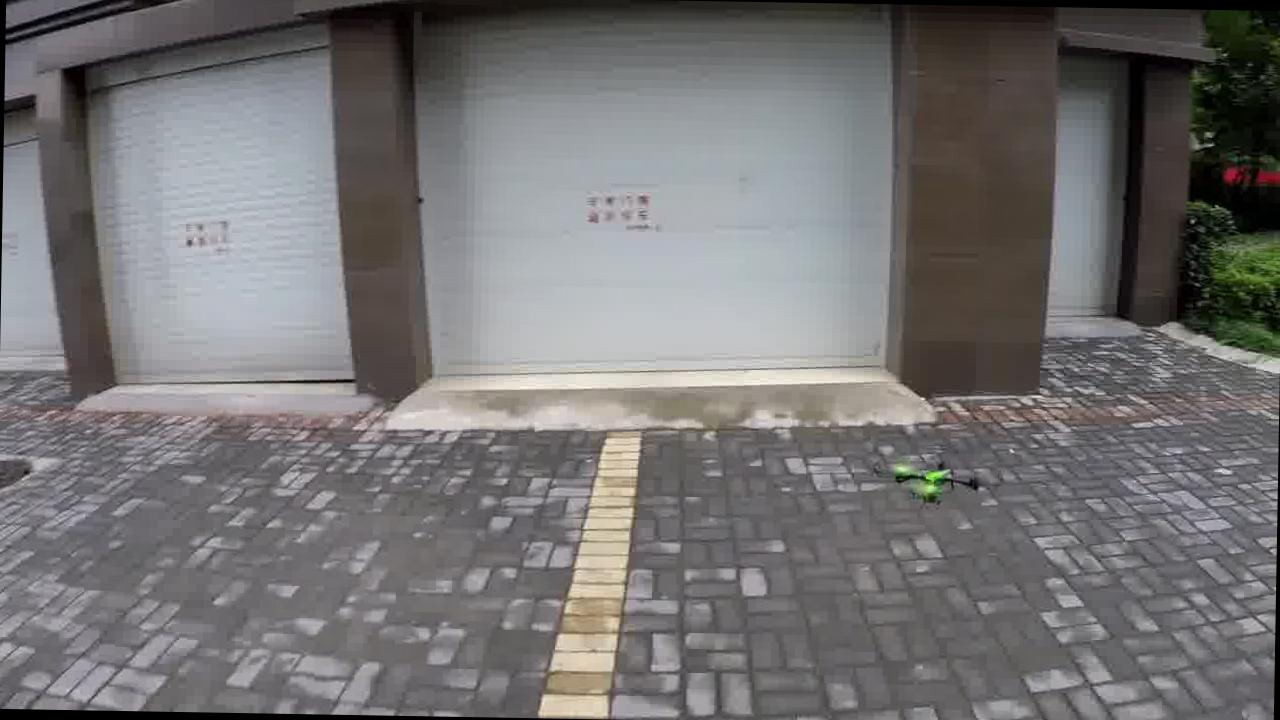drone: (870, 440, 1009, 508)
